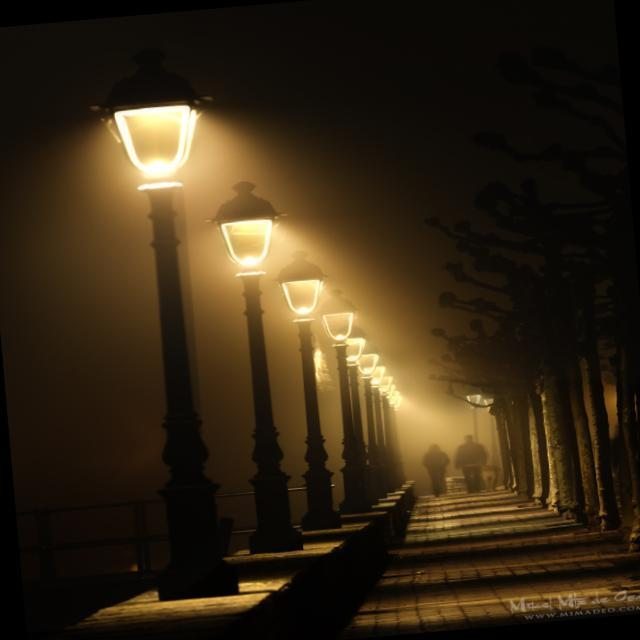on: (110, 70, 203, 193), (329, 287, 417, 414), (210, 189, 285, 266), (277, 254, 316, 311)
